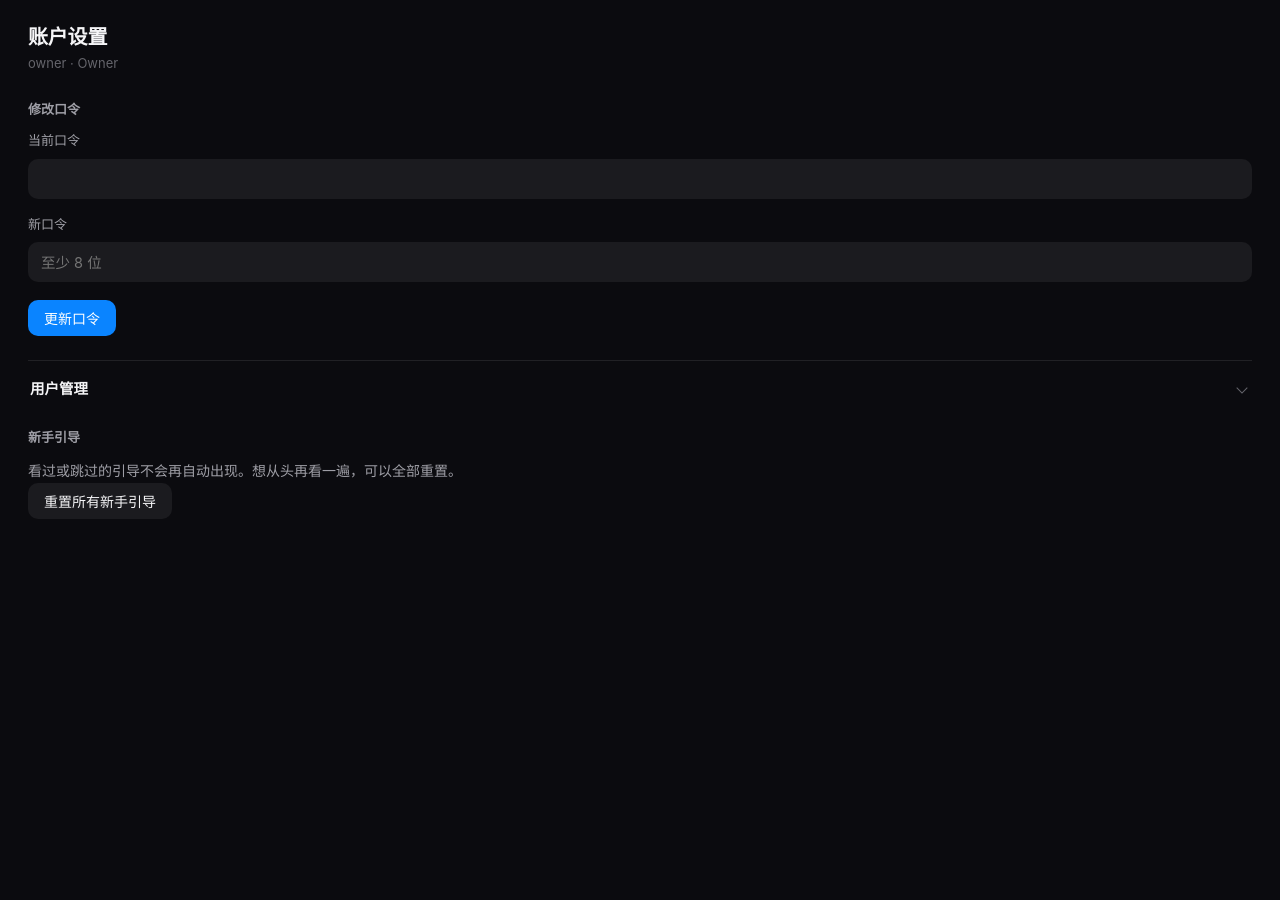
Test case: account settings › updates role and active state, and retains a failed reset password
Click the button "用户管理" at (59, 388), box 28,360 -> 1252,402
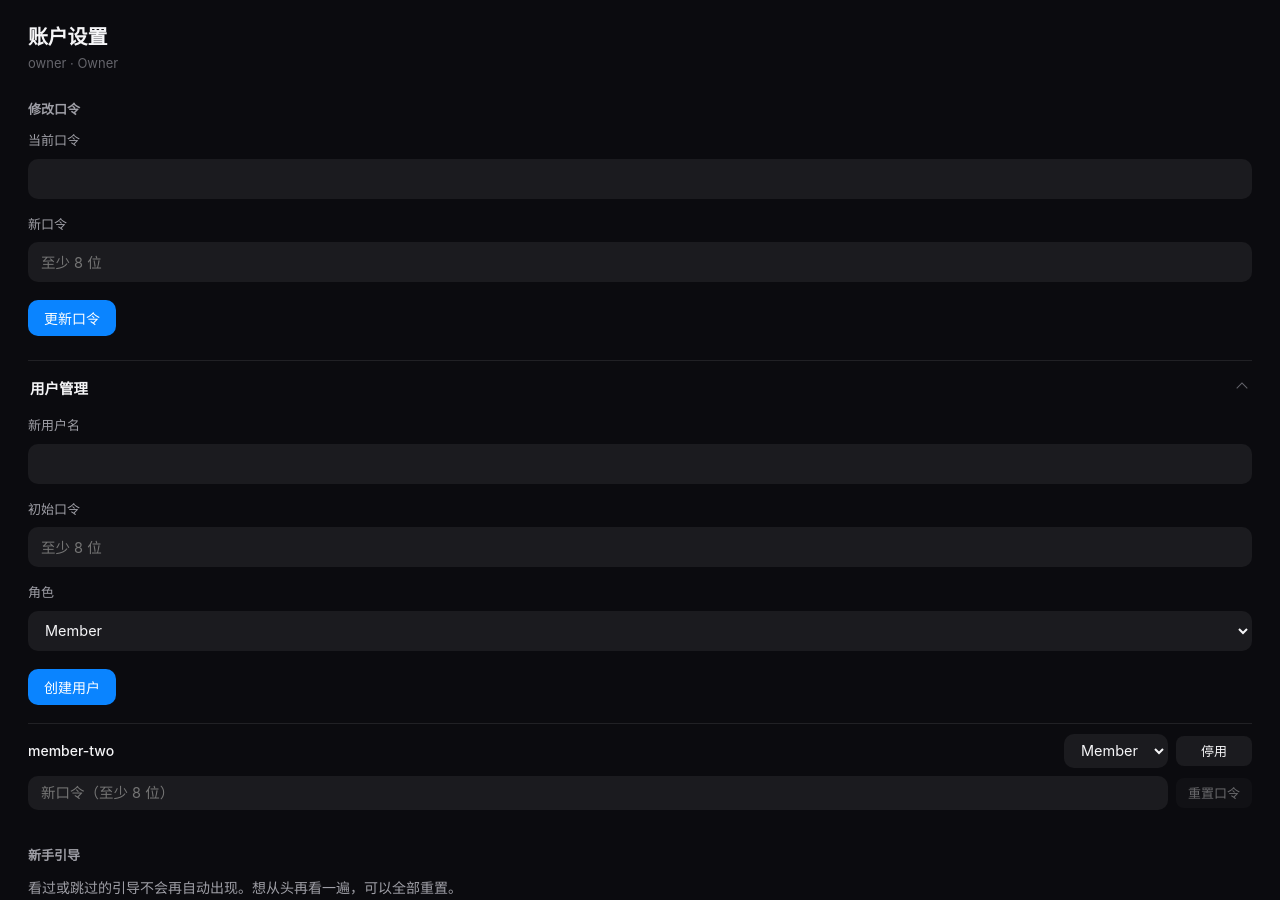
Select "Owner" in the dropdown named "member-two 角色" at (1116, 750), box 1064,734 -> 1168,768
Click the button "停用" at (1214, 750), box 1176,736 -> 1252,766
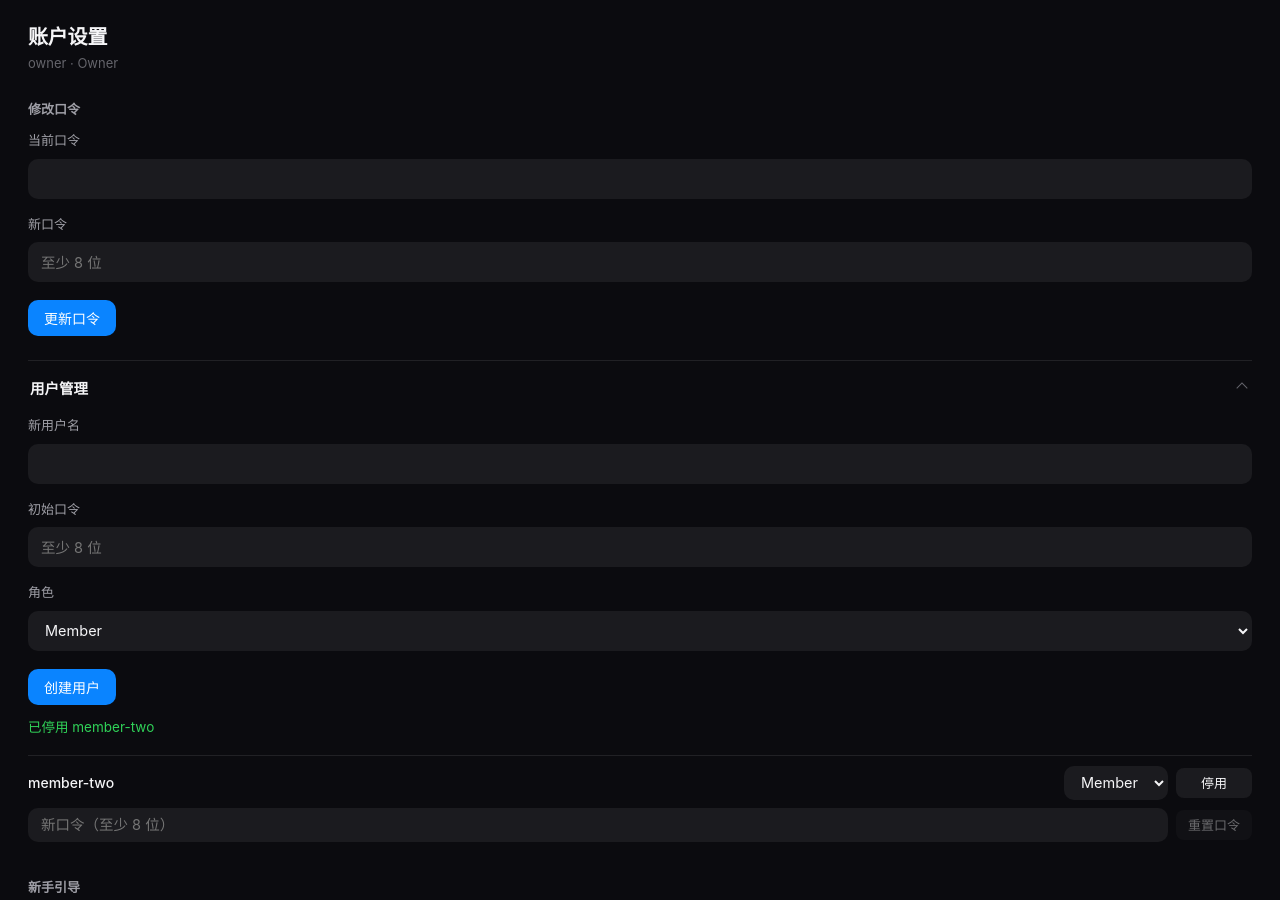
Type "keep-on-failure" into the password field named "重置 member-two 口令" at (598, 825), box 28,808 -> 1168,842
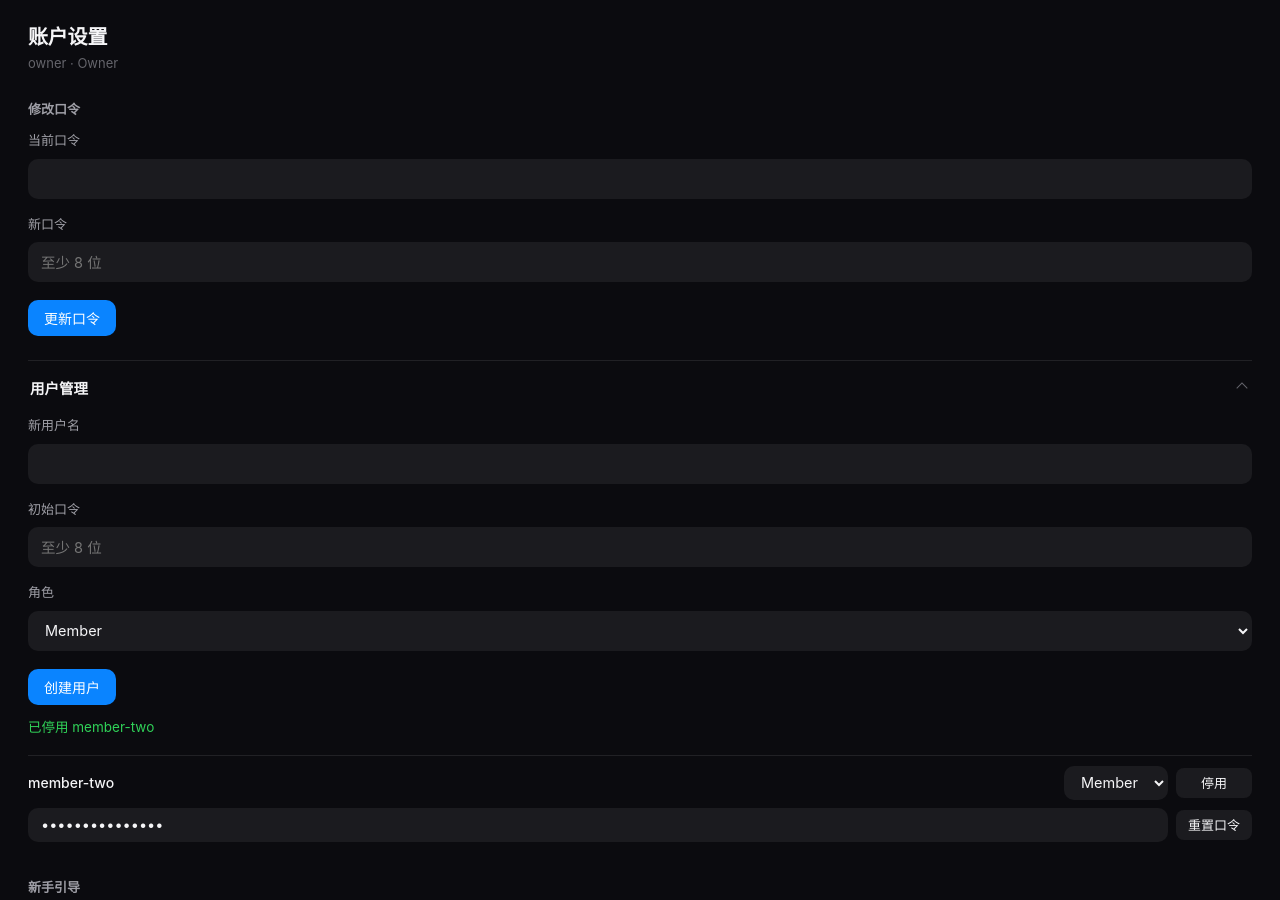
Click the button "重置口令" at (1214, 825), box 1176,810 -> 1252,840
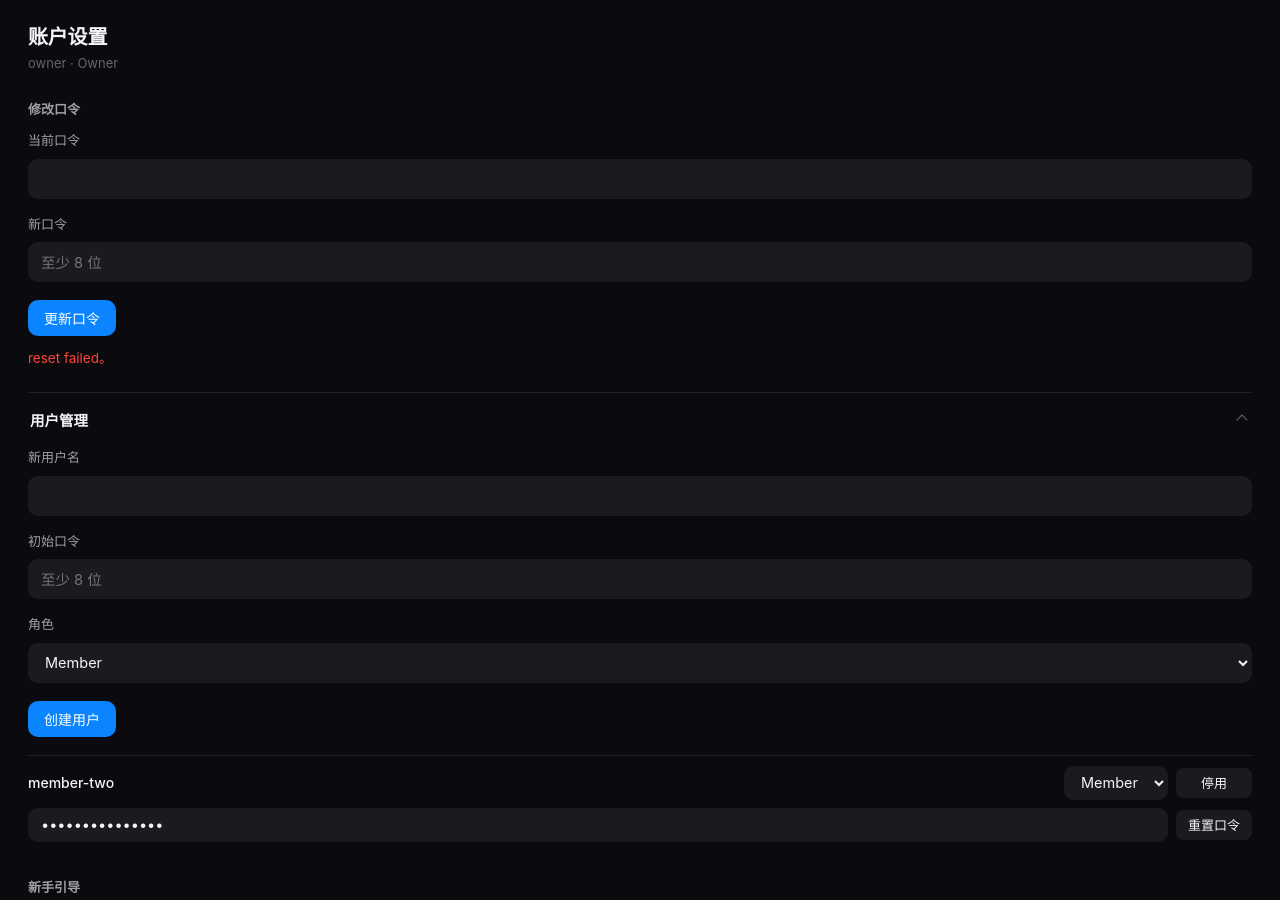
expect the message "reset failed。" is shown: met, box 28,350 -> 112,366
